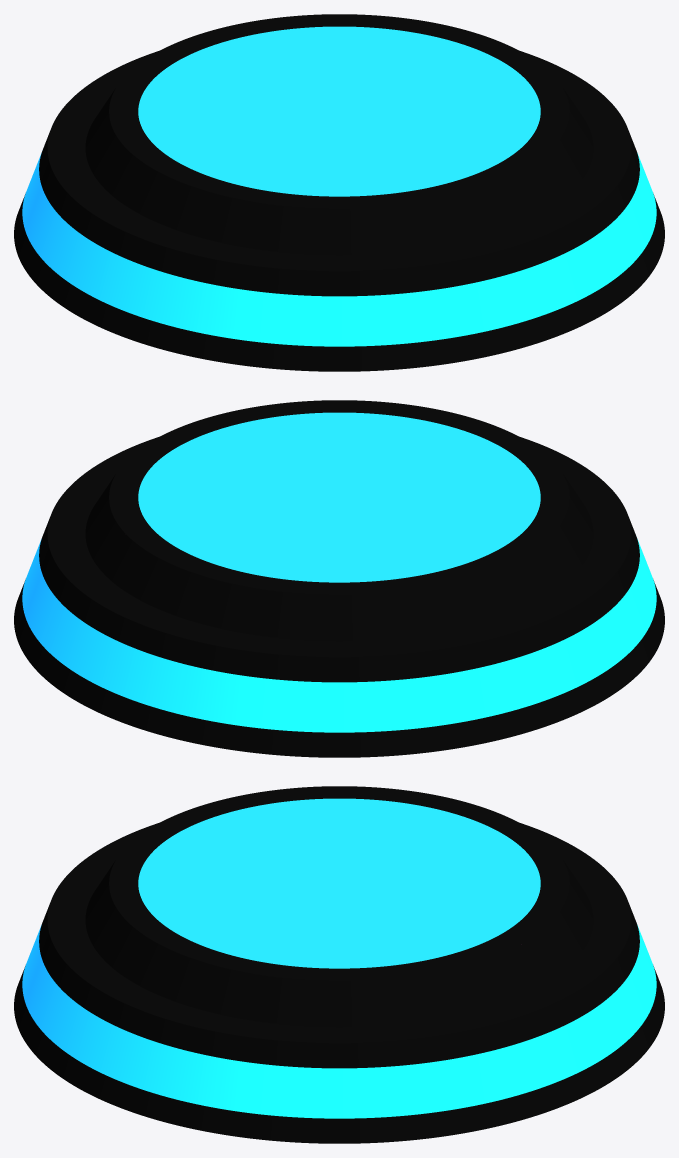
Rendered from map.glb.
3 renders of one model, top to bottom at view 1: azimuth 30°, elevation 25°; view 2: azimuth 150°, elevation 25°; view 3: azimuth 270°, elevation 25°, orthographic.
Visible parts, largest first — view 1: Display Podium_0; view 2: Display Podium_0; view 3: Display Podium_0.
Boxes of the visible parts, x1,y1,x2,y2 form: Display Podium_0: (14,14,664,371); Display Podium_0: (14,400,664,757); Display Podium_0: (14,786,664,1143).
Bounding box in the file's own units: 7.36 × 1.53 × 7.36.
Materials: 4 (2 with a texture image).
